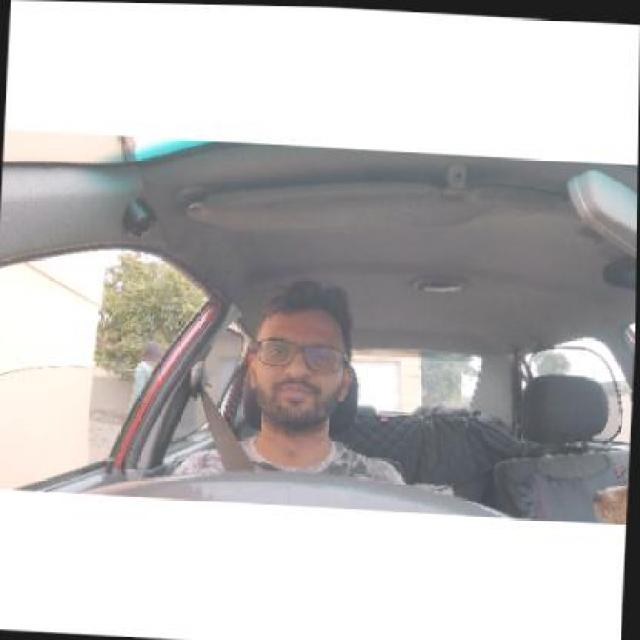person: (236, 276, 361, 431)
